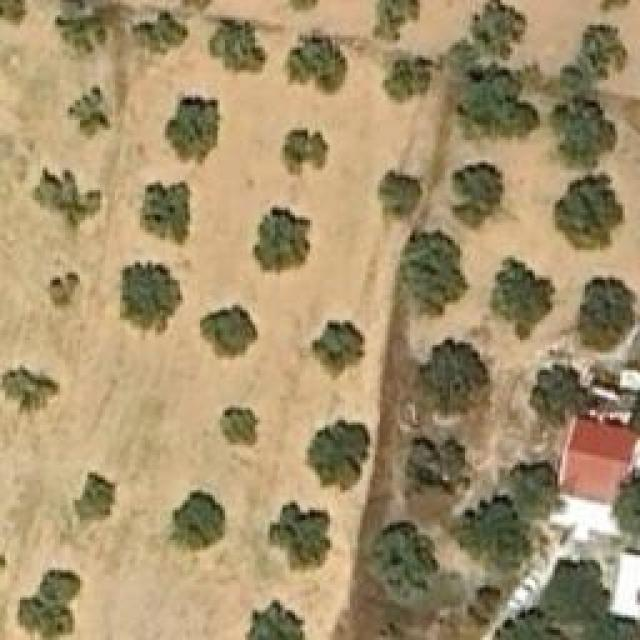Tree: (25, 165, 103, 245), (458, 65, 538, 138), (415, 335, 488, 413), (365, 520, 438, 598), (450, 498, 528, 571), (115, 260, 183, 343), (302, 415, 370, 495), (538, 558, 608, 633), (493, 258, 553, 341), (555, 175, 623, 248), (18, 570, 83, 638), (402, 440, 470, 505), (162, 93, 220, 168), (577, 275, 635, 350), (268, 502, 331, 570), (410, 232, 463, 310), (253, 205, 313, 273), (553, 105, 613, 168), (200, 18, 263, 78), (528, 363, 591, 423), (170, 493, 228, 553), (453, 163, 506, 228), (200, 302, 258, 360), (0, 368, 60, 423), (140, 183, 190, 248), (313, 320, 366, 380), (285, 35, 340, 85), (468, 3, 518, 56), (477, 610, 565, 640), (510, 458, 558, 513), (280, 128, 330, 178), (248, 600, 308, 640), (583, 25, 628, 78), (57, 0, 102, 52), (73, 473, 118, 523), (375, 172, 420, 220), (133, 15, 186, 53), (218, 405, 261, 448), (615, 470, 640, 543), (368, 0, 413, 40), (385, 60, 430, 100), (75, 93, 108, 133), (50, 273, 80, 308), (0, 0, 15, 25)
